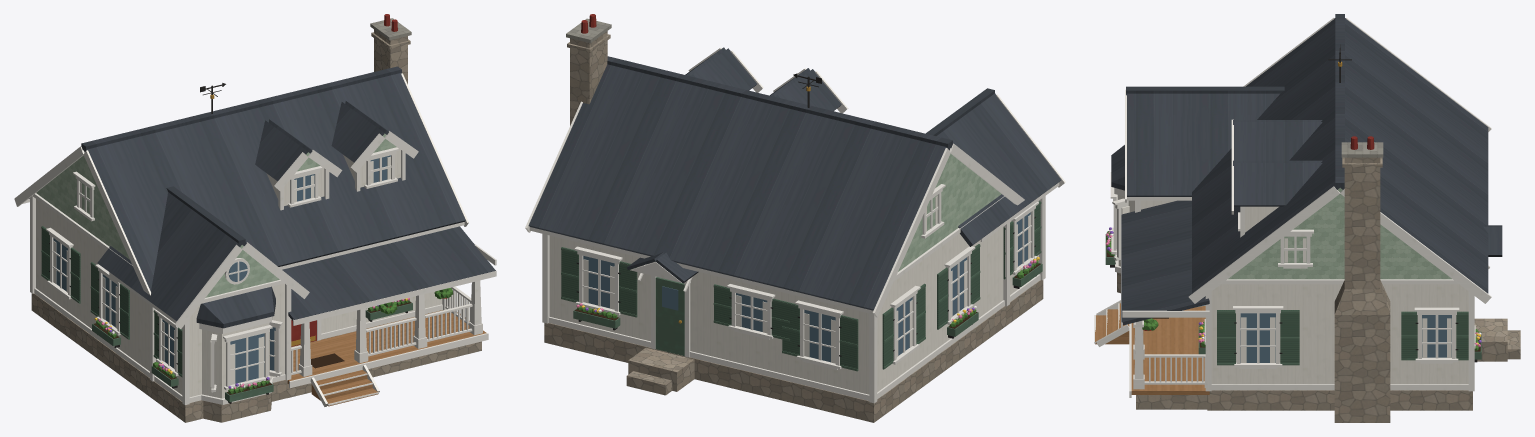
The model's file is house.glb.
3 renders of one model, left to right at view 1: azimuth 30°, elevation 25°; view 2: azimuth 150°, elevation 25°; view 3: azimuth 270°, elevation 25°, orthographic. The views are drawn at different scales.
Parts seen in each view (by area): view 1: House; view 2: House; view 3: House.
Boxes of the visible parts, x1,y1,x2,y2 form: House: (14,14,496,422); House: (525,14,1065,422); House: (1094,14,1520,422).
Bounding box in the file's own units: 11.43 × 8.31 × 11.45.
22 materials, 11 textured.
